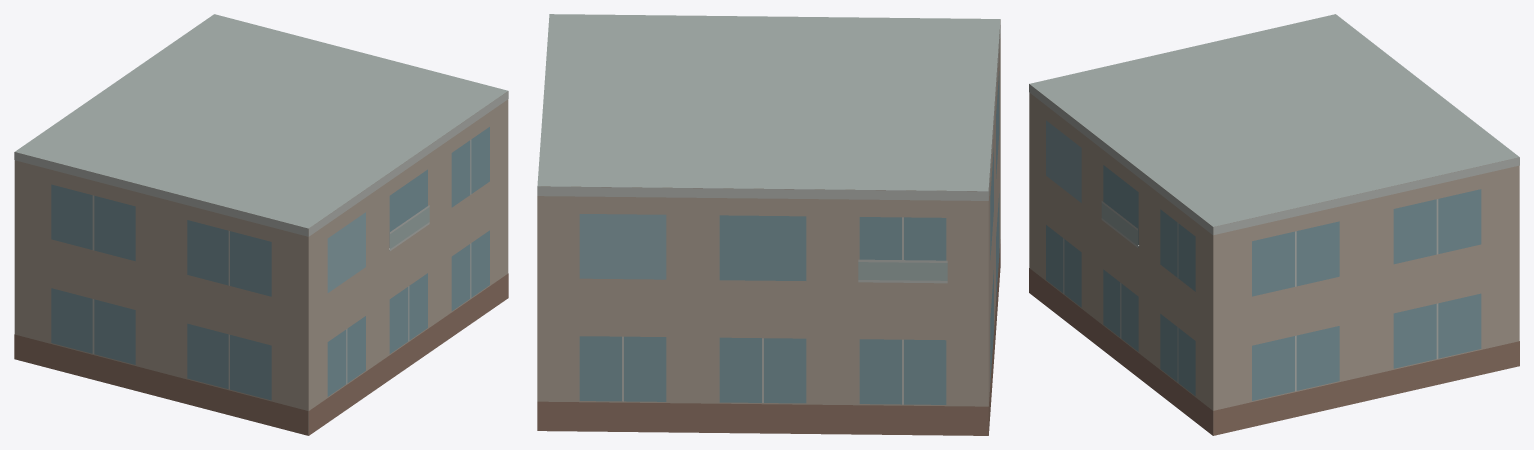
File: survey-upis-32694492.glb
3 views of the same model, side by side, from view 1: azimuth 30°, elevation 25°; view 2: azimuth 150°, elevation 25°; view 3: azimuth 270°, elevation 25° (orthographic). The views are drawn at different scales.
Parts seen in each view (by area): view 1: survey-upis-32694492.tmp; view 2: survey-upis-32694492.tmp; view 3: survey-upis-32694492.tmp.
Boxes of the visible parts, x1=… form: survey-upis-32694492.tmp: x1=14, y1=14, x2=508, y2=435; survey-upis-32694492.tmp: x1=537, y1=14, x2=1000, y2=435; survey-upis-32694492.tmp: x1=1029, y1=14, x2=1519, y2=435.
Size of the model in its own units: 13.34 by 6.1 by 12.99.
